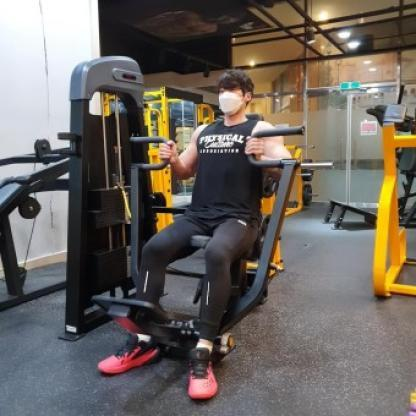Chest Press machine: (56, 46, 332, 408)
